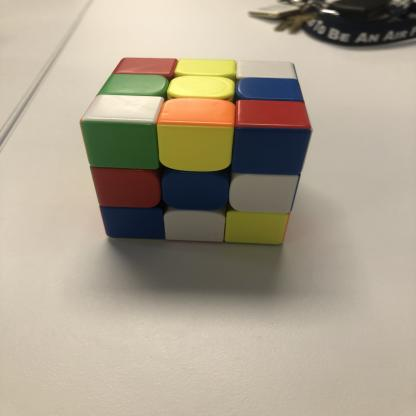UnsolvedCube: (68, 50, 315, 250)
